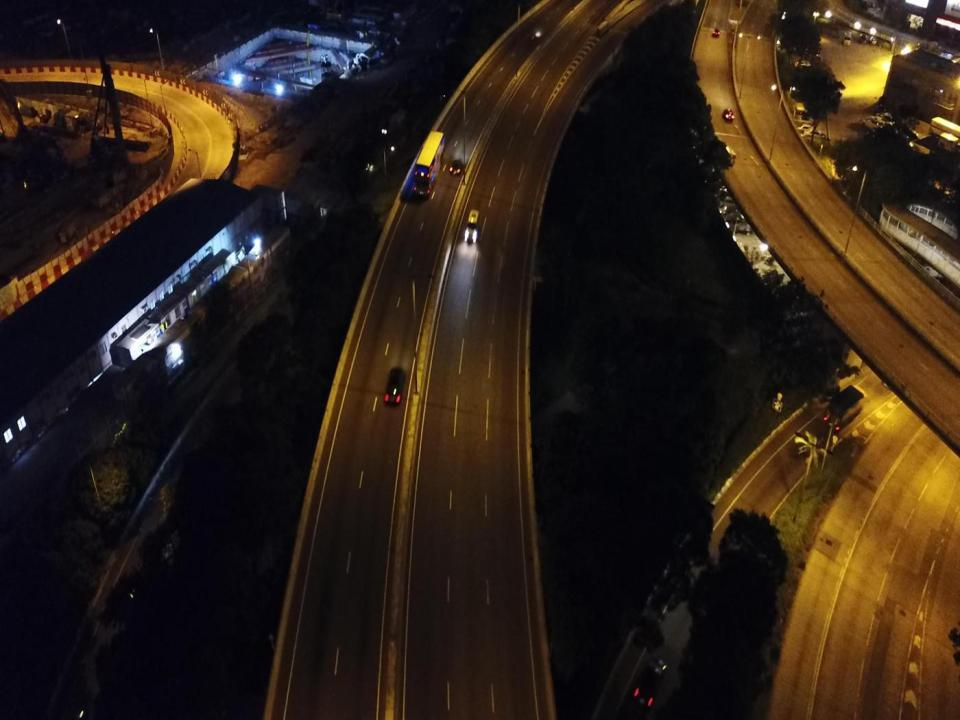bus: (413, 132, 445, 197)
car: (631, 656, 668, 709), (382, 366, 407, 404), (448, 157, 467, 177), (802, 130, 827, 142), (722, 108, 734, 121), (798, 125, 815, 133), (859, 33, 867, 43), (712, 28, 720, 36), (870, 36, 876, 44)
truck: (826, 384, 868, 429)
van: (464, 210, 480, 246), (718, 144, 736, 166), (861, 116, 883, 133), (842, 30, 852, 46)
